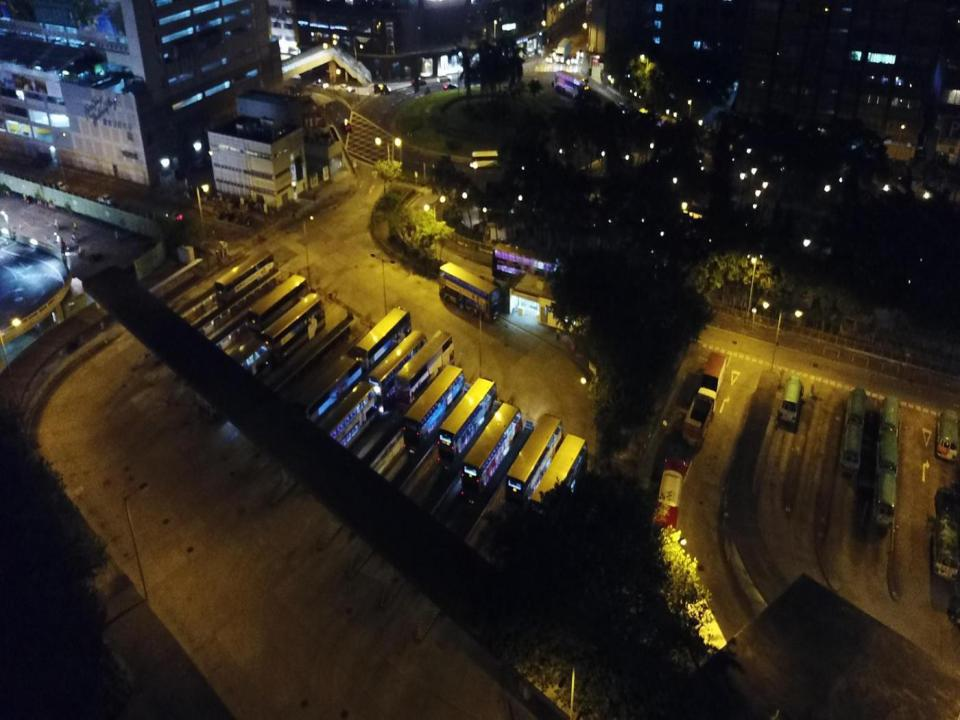bus: (460, 401, 523, 504), (527, 433, 587, 532), (310, 381, 378, 467), (403, 365, 465, 453), (506, 414, 564, 508), (438, 376, 497, 468), (293, 354, 362, 430), (394, 330, 454, 406), (368, 331, 427, 408), (264, 292, 326, 364), (438, 260, 501, 324), (248, 275, 312, 334), (356, 307, 412, 371), (215, 248, 274, 308), (492, 243, 560, 290), (650, 457, 685, 546), (933, 516, 959, 581), (872, 470, 896, 528), (839, 422, 864, 477), (935, 408, 959, 463), (778, 376, 803, 425), (875, 431, 898, 479), (878, 395, 900, 444), (554, 70, 589, 100), (845, 388, 867, 433), (470, 151, 498, 168)
car: (936, 485, 959, 523), (338, 83, 356, 93), (97, 194, 114, 204), (164, 211, 182, 220), (312, 78, 328, 88), (410, 77, 427, 86), (52, 181, 67, 191), (444, 83, 458, 90), (344, 118, 352, 130), (546, 53, 554, 63), (571, 56, 579, 64), (576, 49, 584, 56), (550, 48, 558, 55)
truck: (681, 387, 716, 448), (701, 351, 725, 393), (556, 38, 571, 63)
van: (373, 82, 392, 96), (437, 75, 450, 82)
